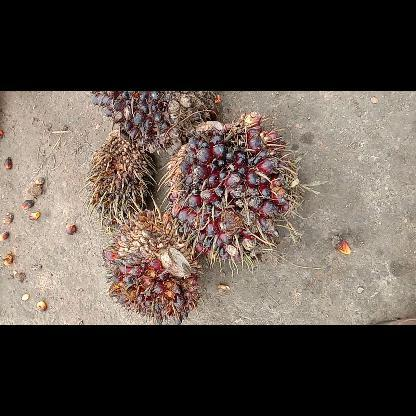Kurang masak: (167, 115, 299, 258), (89, 90, 219, 150)
TBS abnormal: (87, 129, 153, 227)
TBS masak: (102, 212, 202, 323)
